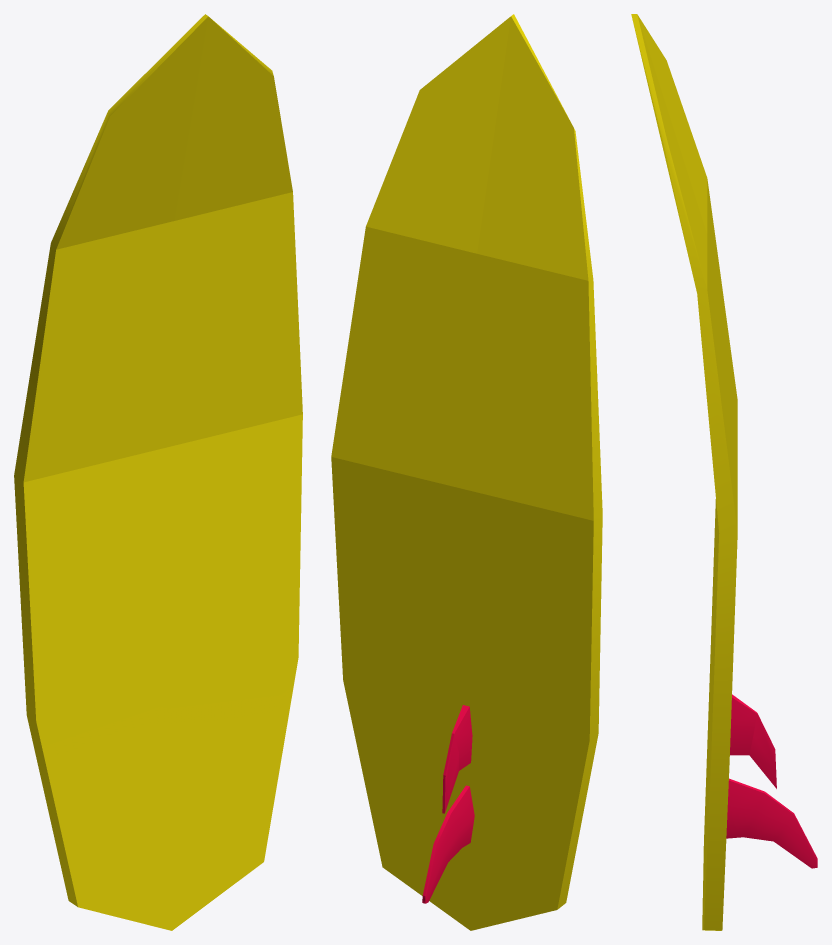
Rendered from surf_board_fbx.fbx.
3 renders of one model, left to right at view 1: azimuth 30°, elevation 25°; view 2: azimuth 150°, elevation 25°; view 3: azimuth 270°, elevation 25°, orthographic. The views are drawn at different scales.
Parts seen in each view (by area): view 1: pCube1; view 2: pCube1, pCube2, pCube3; view 3: pCube1, pCube2, pCube3.
Part boxes in pixels (<box>): pCube1: <box>14,14,302,930</box>; pCube1: <box>331,14,602,930</box>; pCube2: <box>422,785,474,903</box>; pCube3: <box>442,705,472,813</box>; pCube1: <box>631,14,737,930</box>; pCube2: <box>726,778,817,868</box>; pCube3: <box>730,694,776,788</box>.
Size of the model in its own units: 2.54 by 8.18 by 1.51.
